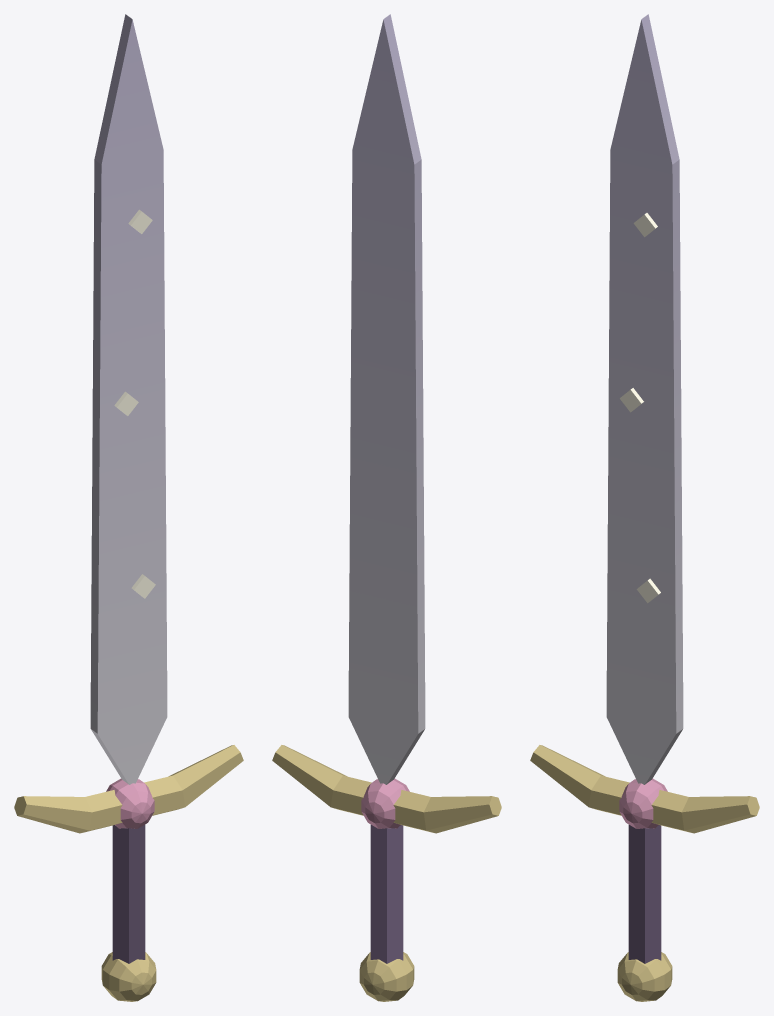
Rendered from GlimmerBlade.fbx.
The picture shows the model from 3 angles, left to right: view 1: azimuth 30°, elevation 25°; view 2: azimuth 150°, elevation 25°; view 3: azimuth 330°, elevation 25°; orthographic projection.
Visible parts, largest first — view 1: Prop_GlimmerBlade; view 2: Prop_GlimmerBlade; view 3: Prop_GlimmerBlade.
Part boxes in pixels (bbox=[...]): Prop_GlimmerBlade: bbox=[14, 14, 243, 1001]; Prop_GlimmerBlade: bbox=[272, 14, 501, 1001]; Prop_GlimmerBlade: bbox=[530, 14, 759, 1001].
Bounding box in the file's own units: 0.2884 × 1.21 × 0.064.
